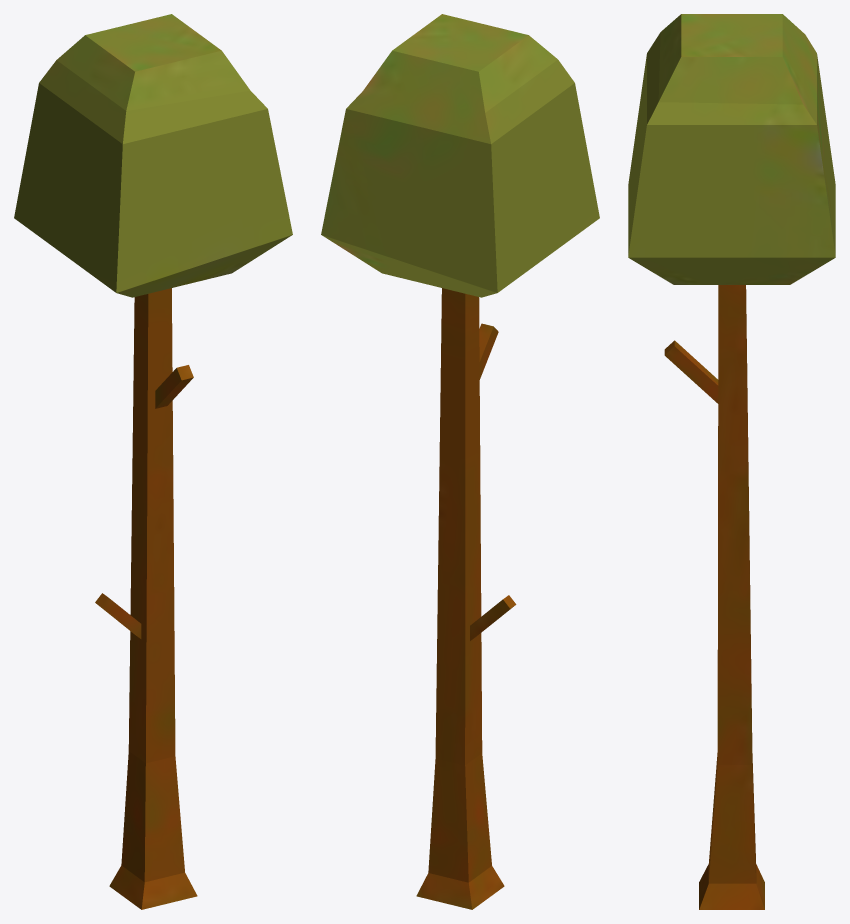
File: mega-pack-cube-052.glb
3 views of the same model, side by side, from view 1: azimuth 30°, elevation 25°; view 2: azimuth 150°, elevation 25°; view 3: azimuth 270°, elevation 25° (orthographic).
Parts seen in each view (by area): view 1: Cube.052; view 2: Cube.052; view 3: Cube.052.
Boxes of the visible parts, bbox=[...] form: Cube.052: bbox=[14, 14, 292, 909]; Cube.052: bbox=[321, 14, 599, 909]; Cube.052: bbox=[628, 14, 835, 909].
Bounding box in the file's own units: 1.73 × 7.93 × 1.73.
1 material, 1 textured.
